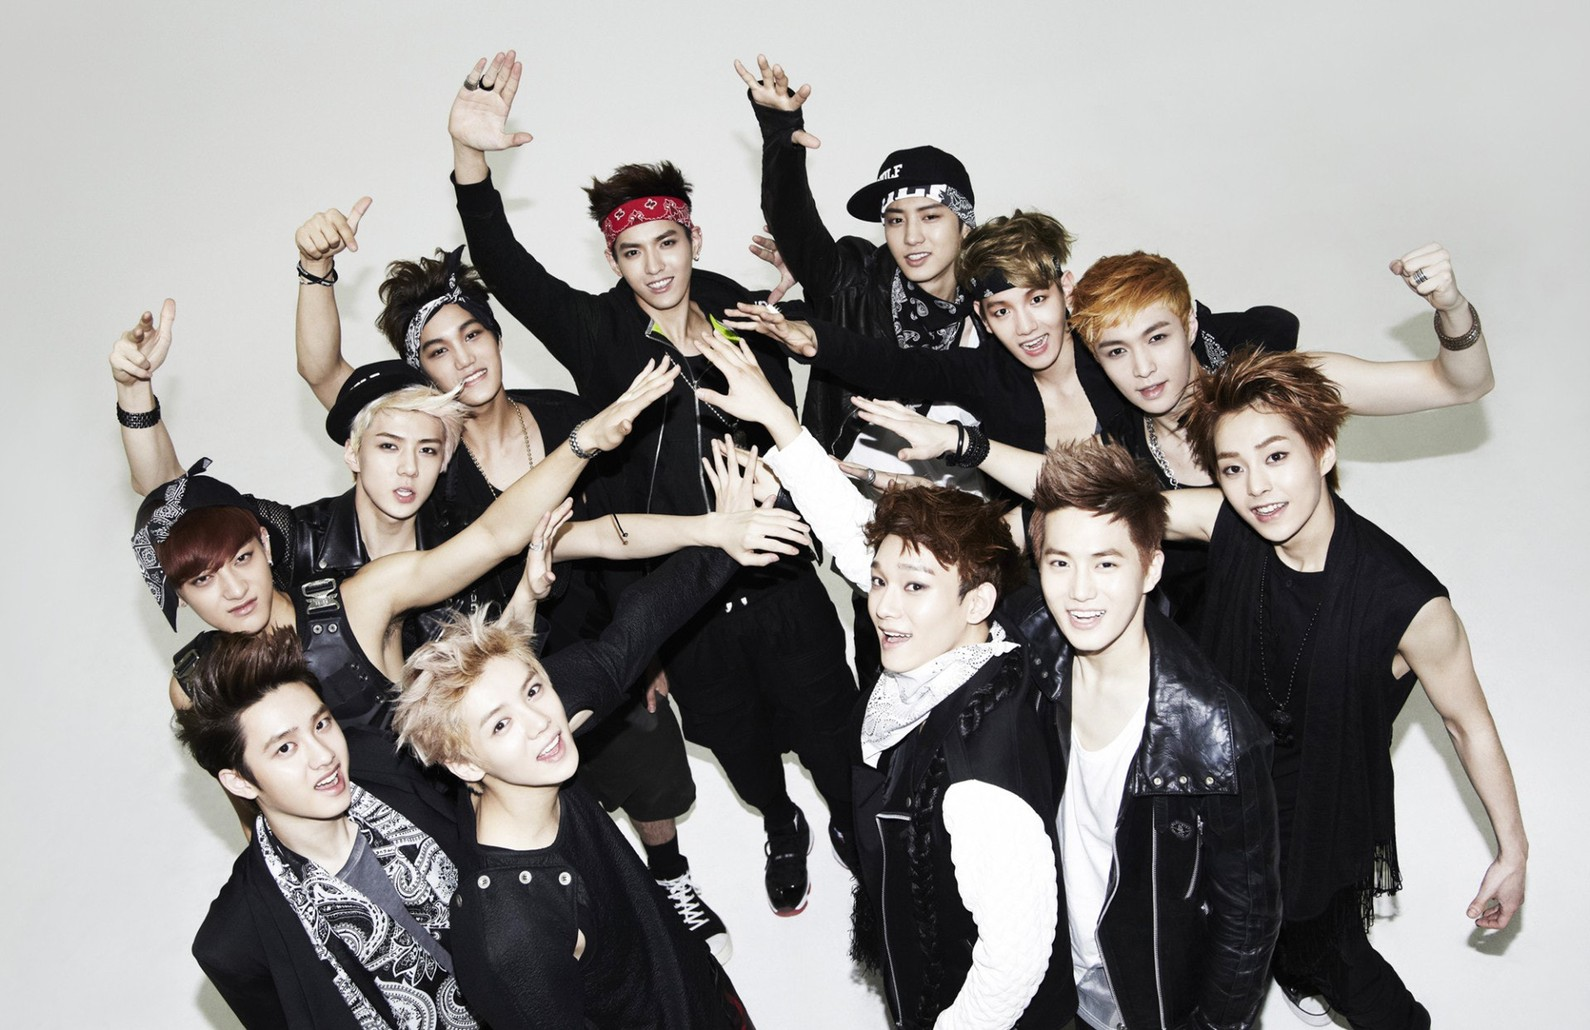people: (1189, 336, 1396, 918), (842, 475, 1048, 1020), (155, 645, 444, 1030), (1028, 438, 1214, 1016), (407, 616, 673, 1009), (571, 159, 769, 479), (167, 493, 417, 727), (394, 250, 553, 577), (1062, 250, 1226, 557), (835, 148, 985, 448), (310, 359, 446, 684), (967, 200, 1110, 454)
